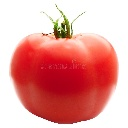tomato: (9, 31, 120, 123)
